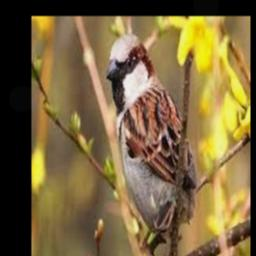Sparrow: (104, 33, 196, 252)
